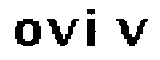i: (83, 2, 105, 53)
o: (11, 16, 43, 50)
v: (114, 14, 149, 51), (44, 17, 81, 48)
